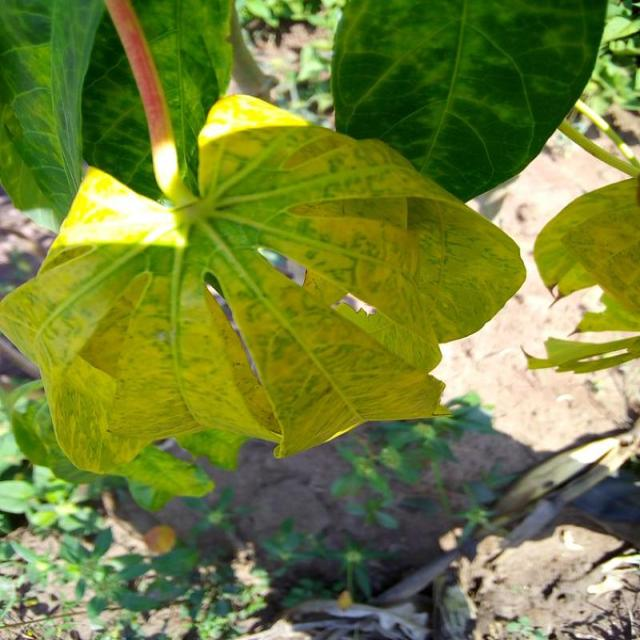cassava leaf: (0, 91, 526, 482), (329, 0, 608, 204), (0, 0, 235, 235)
